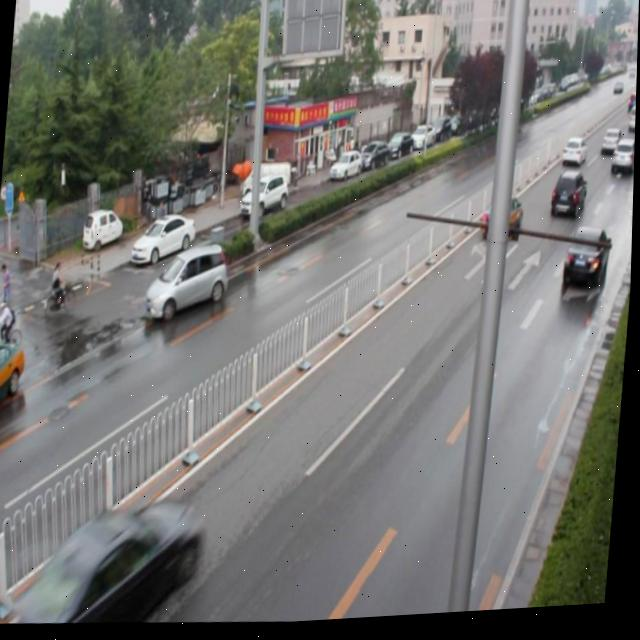car: (17, 491, 212, 634), (147, 245, 231, 331), (563, 232, 612, 304), (480, 199, 524, 252), (549, 174, 587, 227), (609, 141, 636, 184), (561, 141, 587, 176)
